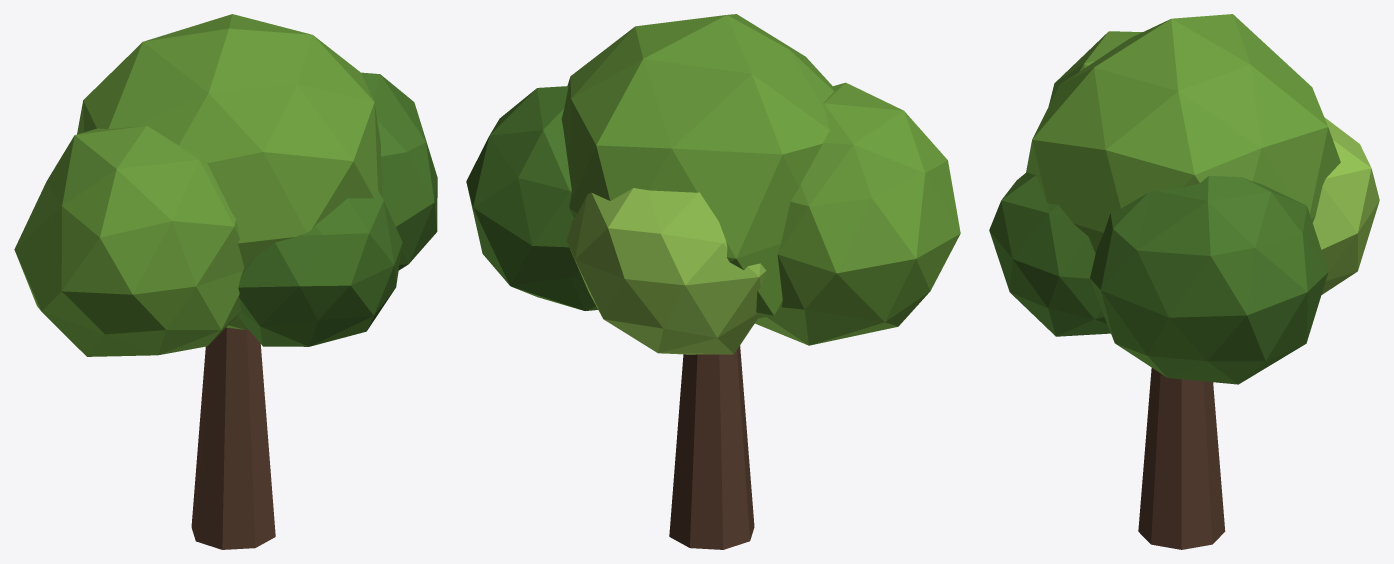
The model's file is SM_Oak_Tree.glb.
The picture shows the model from 3 angles, left to right: view 1: azimuth 30°, elevation 25°; view 2: azimuth 150°, elevation 25°; view 3: azimuth 270°, elevation 25°; orthographic projection.
Visible parts, largest first — view 1: SM_Oak_Tree; view 2: SM_Oak_Tree; view 3: SM_Oak_Tree.
Part boxes in pixels (box(x1,y1,x2,y2)): SM_Oak_Tree: box(14, 14, 437, 549); SM_Oak_Tree: box(466, 14, 960, 549); SM_Oak_Tree: box(989, 14, 1379, 549).
Size of the model in its own units: 3.31 by 3.83 by 2.67.
Materials: 1 (1 with a texture image).
